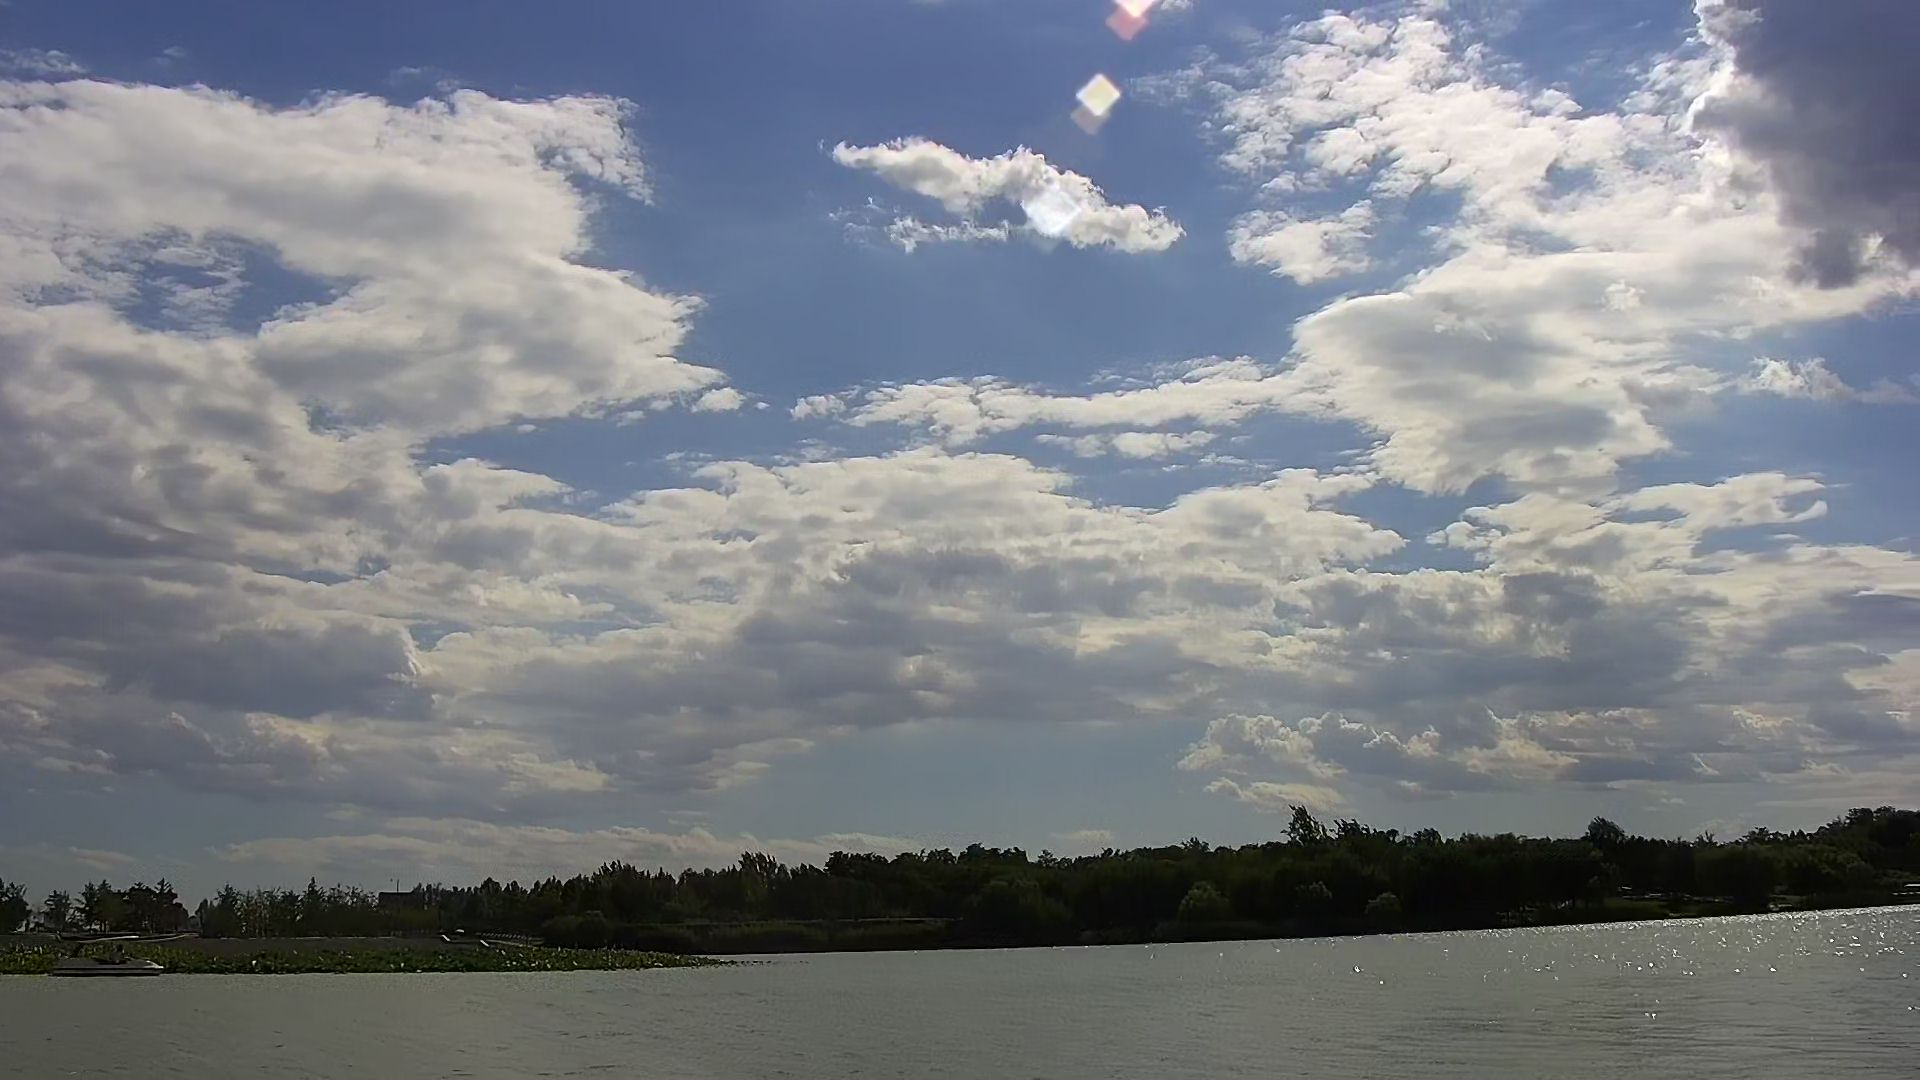boat: (44, 930, 169, 982)
